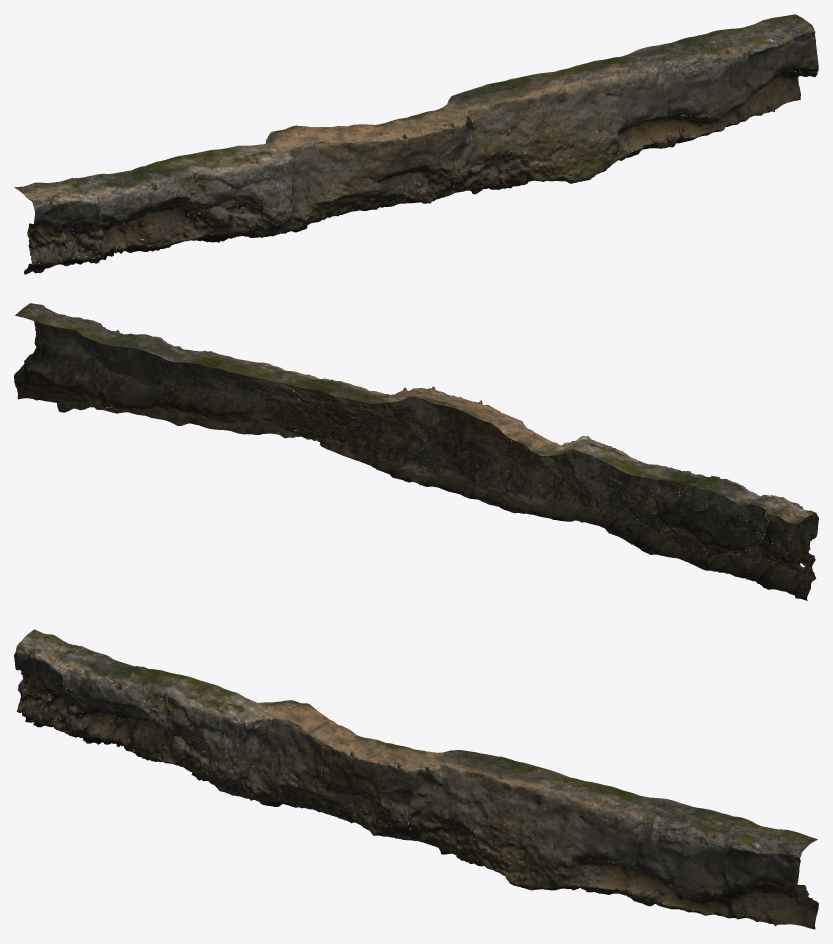
Rendered from coastal_cliff_lod2.glb.
3 renders of one model, top to bottom at view 1: azimuth 30°, elevation 25°; view 2: azimuth 150°, elevation 25°; view 3: azimuth 330°, elevation 25°, orthographic. The views are drawn at different scales.
Parts seen in each view (by area): view 1: CoastalCliff_LOD2; view 2: CoastalCliff_LOD2; view 3: CoastalCliff_LOD2.
Part boxes in pixels (x1,y1,x2,y2): CoastalCliff_LOD2: (14, 14, 818, 274); CoastalCliff_LOD2: (14, 303, 818, 600); CoastalCliff_LOD2: (14, 629, 818, 929).
Size of the model in its own units: 91.98 by 10.31 by 10.96.
Materials: 1 (1 with a texture image).
